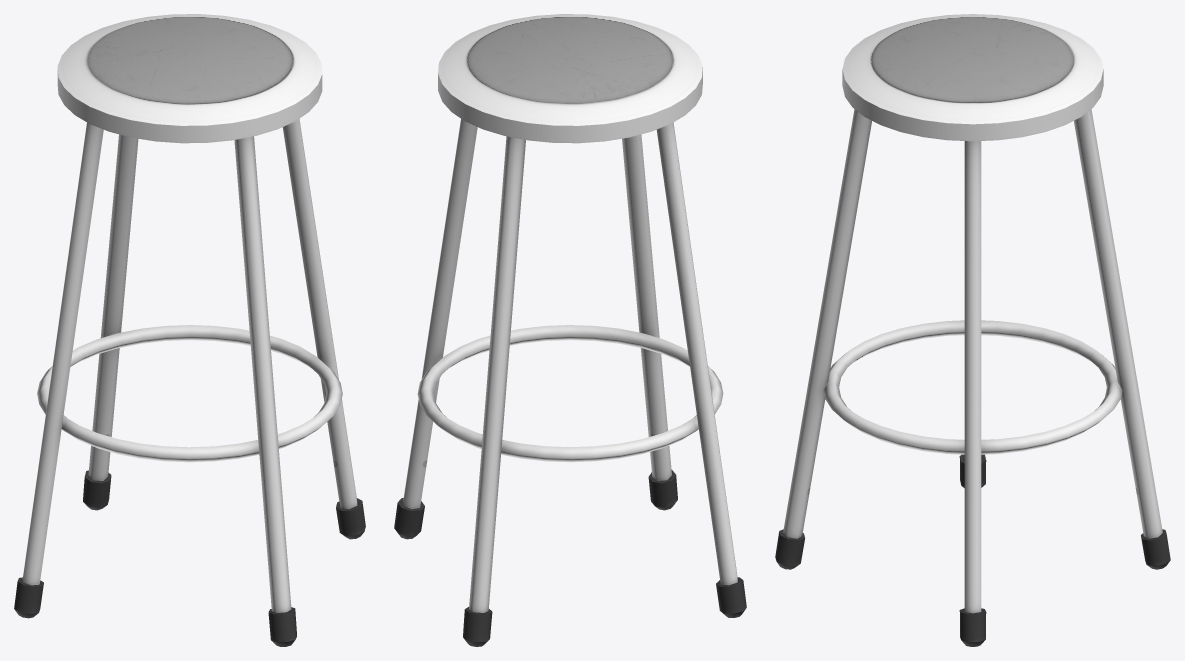
The model's file is SM_Metal_Stool_01a.glb.
The picture shows the model from 3 angles, left to right: view 1: azimuth 30°, elevation 25°; view 2: azimuth 150°, elevation 25°; view 3: azimuth 270°, elevation 25°; orthographic projection.
Parts seen in each view (by area): view 1: SM_Metal_Stool_01a; view 2: SM_Metal_Stool_01a; view 3: SM_Metal_Stool_01a.
Part boxes in pixels (left/top/right/bottom): SM_Metal_Stool_01a: left=14, top=14, right=365, bottom=646; SM_Metal_Stool_01a: left=394, top=14, right=746, bottom=646; SM_Metal_Stool_01a: left=775, top=14, right=1170, bottom=646.
Bounding box in the file's own units: 0.5586 × 0.7982 × 0.5586.
1 material, 1 textured.
